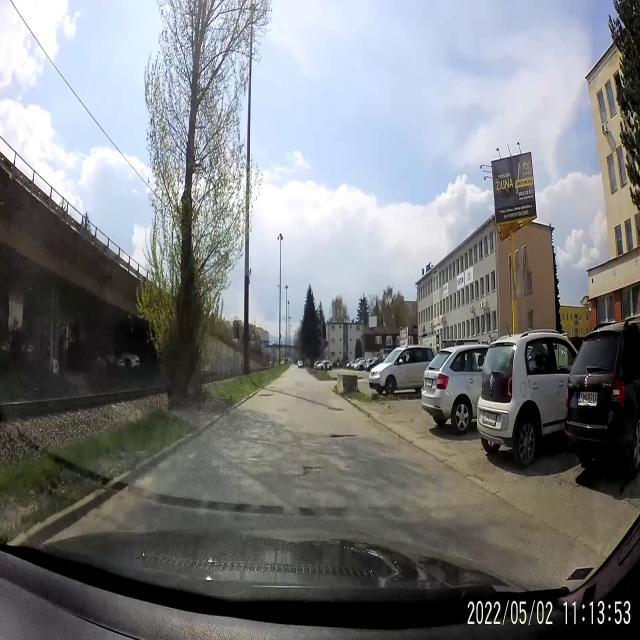Pothole: (298, 454, 322, 486), (328, 426, 358, 446), (257, 390, 276, 400)
